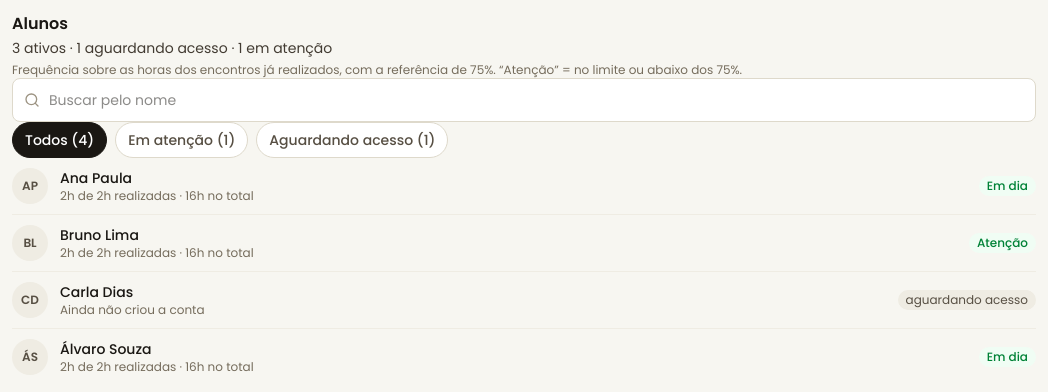
Test case: StudentsList › busca ignora acento e maiúsculas, sem botão de filtrar
Type "alvaro" into the search field named "Buscar aluno pelo nome" at (524, 100), box [12,78,1036,122]
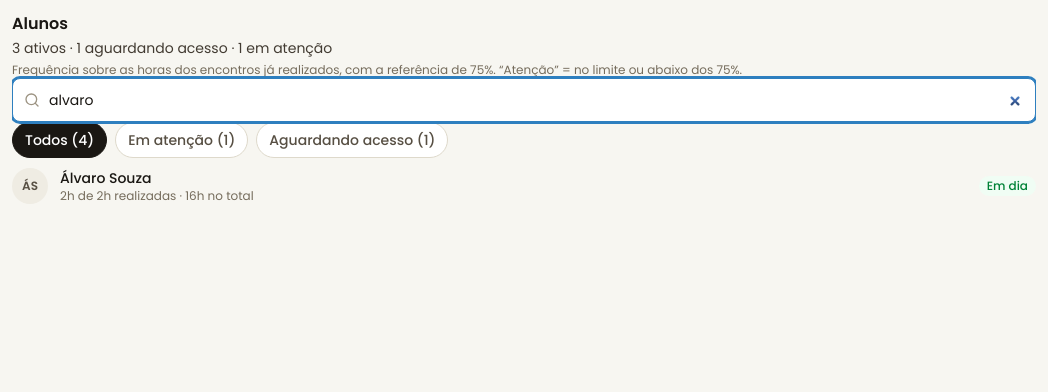
Expected: the text "Álvaro Souza" is shown, [60,168,152,188]
Expected: the number of list items is 1, [12,158,1036,214]
